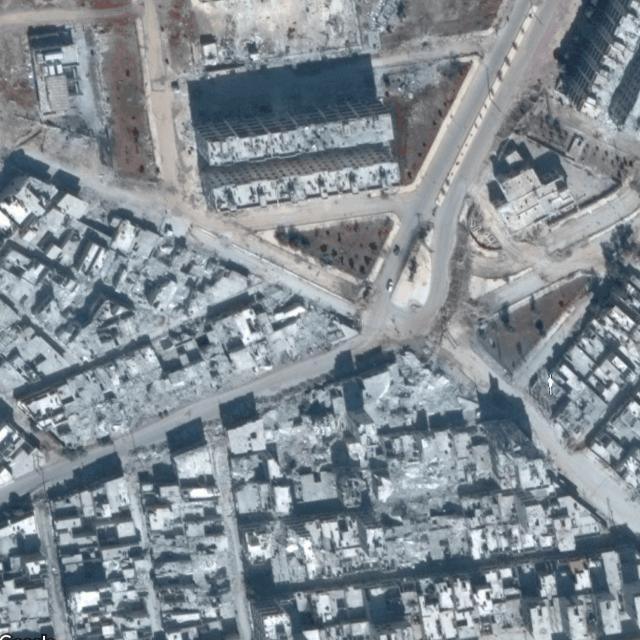damaged_building: (51, 235, 363, 458), (374, 349, 486, 570), (263, 380, 350, 471)
